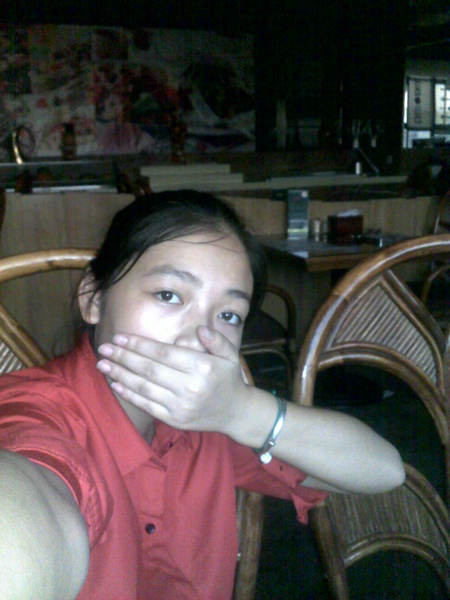face: (111, 233, 252, 428)
